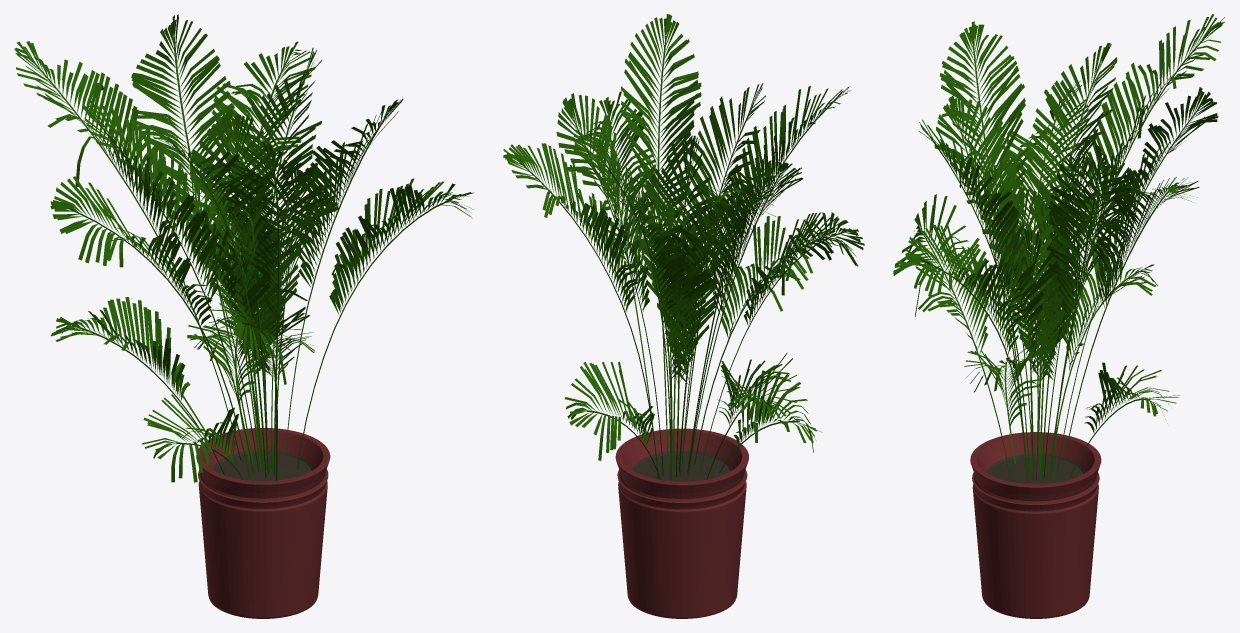
The model's file is plant.obj.
3 views of the same model, side by side, from view 1: azimuth 30°, elevation 25°; view 2: azimuth 150°, elevation 25°; view 3: azimuth 270°, elevation 25° (orthographic). The views are drawn at different scales.
Visible parts, largest first — view 1: plant_Mesh.001, Circle; view 2: plant_Mesh.001, Circle; view 3: plant_Mesh.001, Circle.
Boxes of the visible parts, bbox=[...] form: plant_Mesh.001: bbox=[14, 14, 473, 482]; Circle: bbox=[196, 428, 330, 618]; plant_Mesh.001: bbox=[503, 14, 864, 481]; Circle: bbox=[615, 428, 748, 618]; plant_Mesh.001: bbox=[893, 14, 1225, 484]; Circle: bbox=[970, 432, 1101, 618].
Bounding box in the file's own units: 81.78 × 117 × 69.02.
